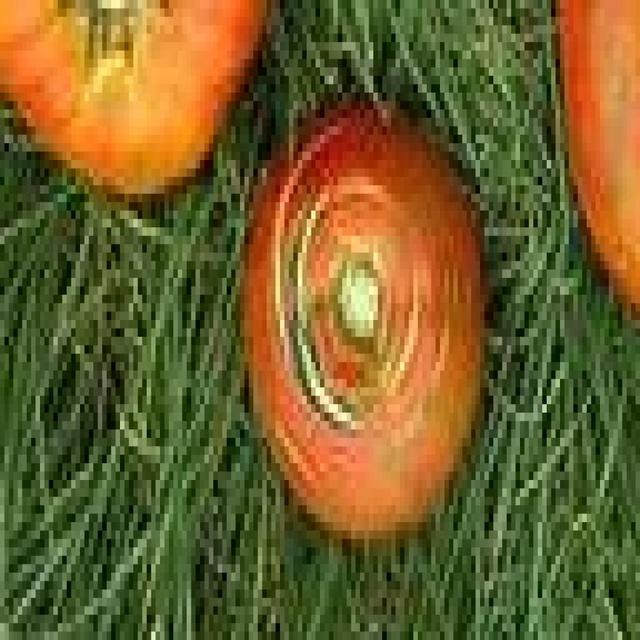Cracking Fruit: (66, 43, 231, 213)
